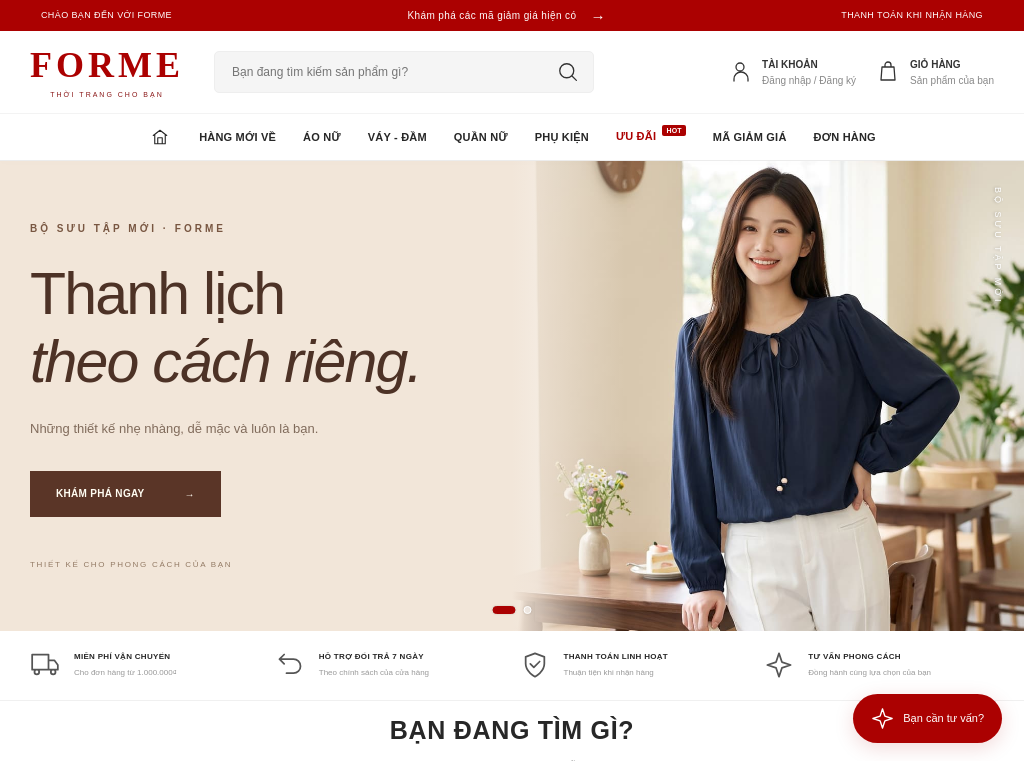
Scenario: opens the public coupon page from the main navigation and shows server coupons
The image size is (1036, 761).
Click the link "MÃ GIẢM GIÁ".
click(750, 137)  # box [713,131,786,143]
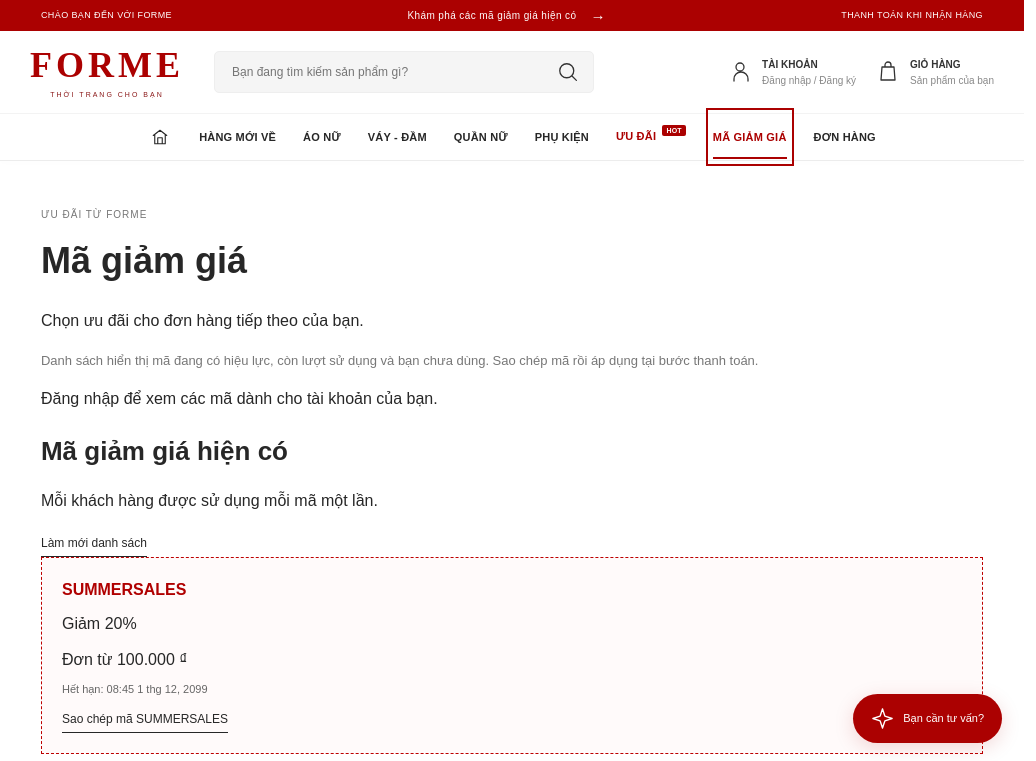
Now the heading "Mã giảm giá" is shown, box [41,240,247,281]
Now the text "SUMMERSALES" is shown, box [62,581,186,598]
Now the button "Sao chép mã SUMMERSALES" is shown, box [62,706,228,733]
